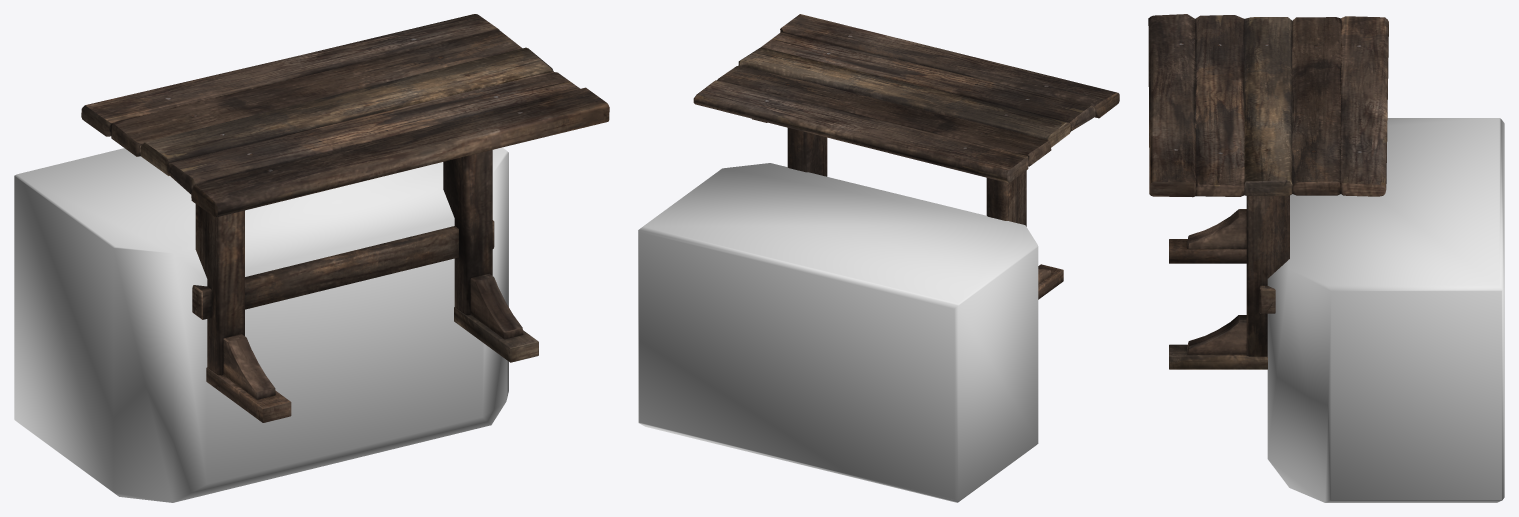
The model's file is SM_Table_v2_.fbx.
The picture shows the model from 3 angles, left to right: view 1: azimuth 30°, elevation 25°; view 2: azimuth 150°, elevation 25°; view 3: azimuth 270°, elevation 25°; orthographic projection. The views are drawn at different scales.
Visible parts, largest first — view 1: SM_Table_v2__ConvexHulls, SM_Table_v2_; view 2: SM_Table_v2__ConvexHulls, SM_Table_v2_; view 3: SM_Table_v2__ConvexHulls, SM_Table_v2_.
Boxes of the visible parts, bbox=[...] form: SM_Table_v2__ConvexHulls: bbox=[14, 147, 508, 502]; SM_Table_v2_: bbox=[81, 14, 609, 422]; SM_Table_v2__ConvexHulls: bbox=[638, 163, 1038, 502]; SM_Table_v2_: bbox=[693, 14, 1119, 299]; SM_Table_v2__ConvexHulls: bbox=[1267, 118, 1504, 502]; SM_Table_v2_: bbox=[1148, 14, 1388, 369].
Bounding box in the file's own units: 1.56 × 1.38 × 1.38.
